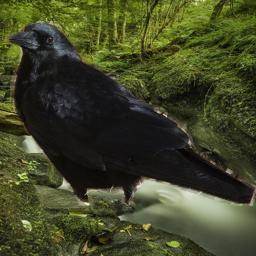Crow: (4, 21, 256, 206)
